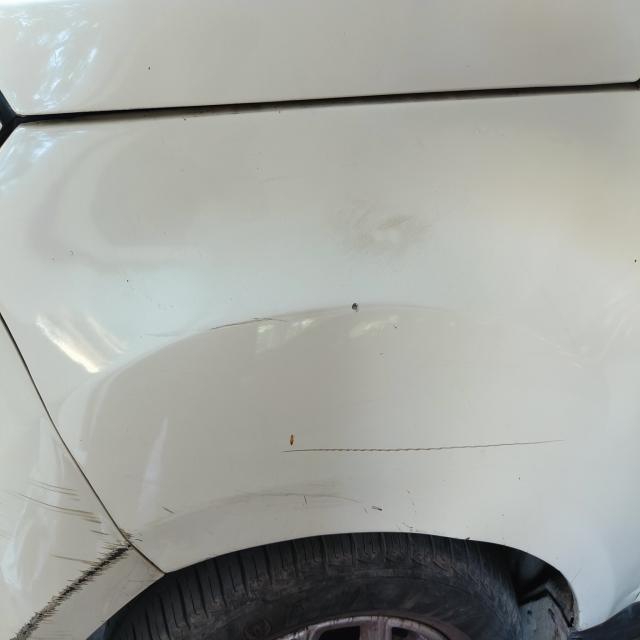scratch: (1, 475, 142, 640), (272, 420, 576, 473), (201, 305, 294, 339)
